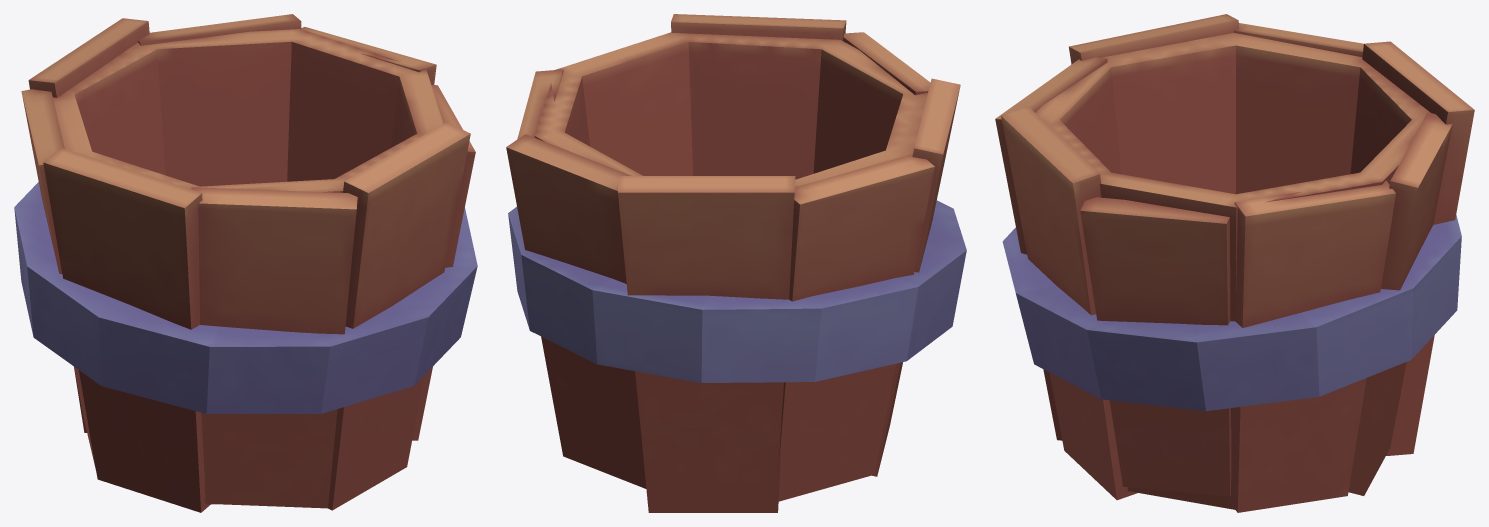
The model's file is Bucket.glb.
The picture shows the model from 3 angles, left to right: view 1: azimuth 30°, elevation 25°; view 2: azimuth 150°, elevation 25°; view 3: azimuth 270°, elevation 25°; orthographic projection.
Visible parts, largest first — view 1: Bucket; view 2: Bucket; view 3: Bucket.
Part boxes in pixels (x1,y1,x2,y2): Bucket: (14,14,477,512); Bucket: (506,14,966,512); Bucket: (995,14,1474,512).
Size of the model in its own units: 0.4944 by 0.4101 by 0.5089.
Materials: 1 (1 with a texture image).
